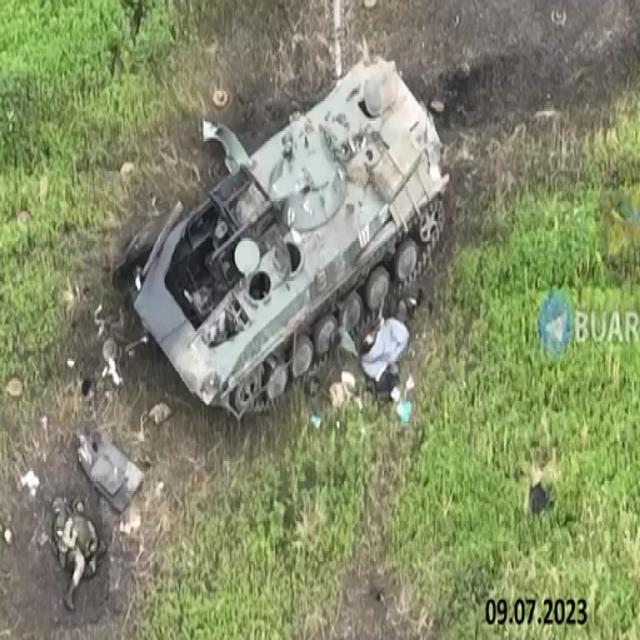APC-IFV: (116, 44, 455, 429)
